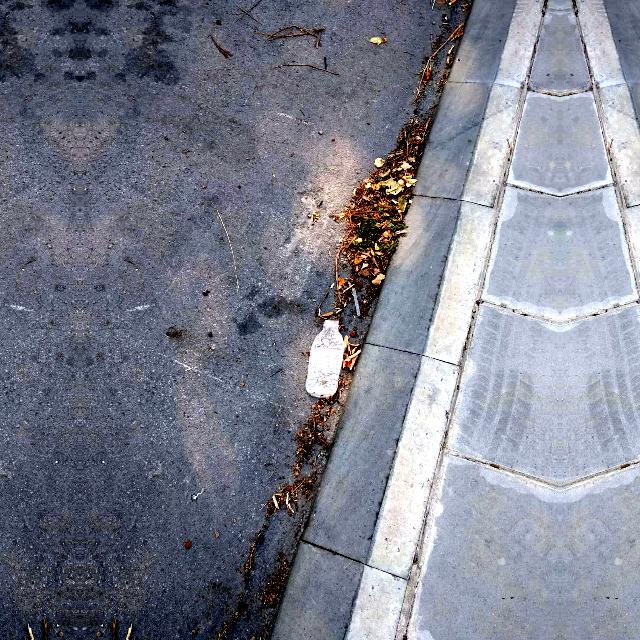Plastic: (302, 312, 346, 402)
